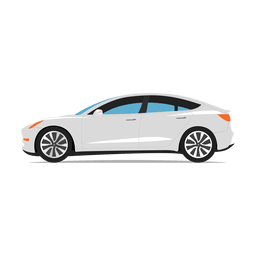car: (21, 92, 240, 167)
